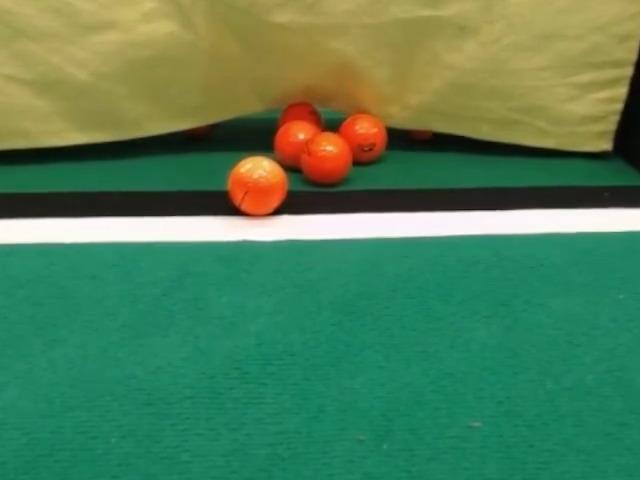Ball: (227, 156, 287, 216), (300, 131, 352, 185), (338, 113, 387, 164), (273, 120, 320, 169), (277, 102, 323, 129)
